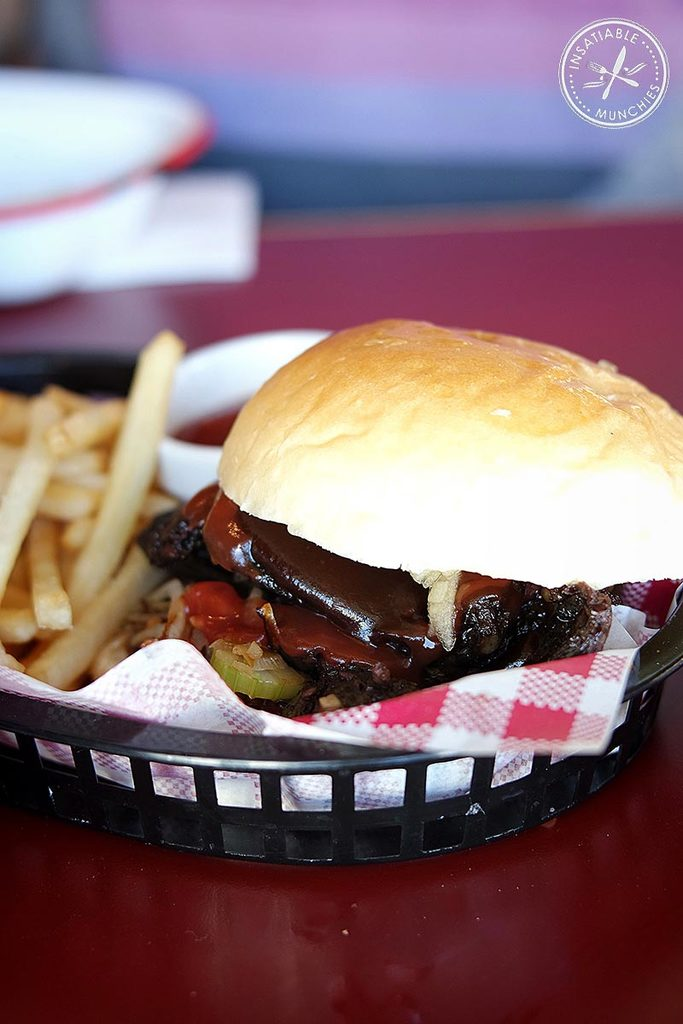French fries: (0, 315, 199, 693)
